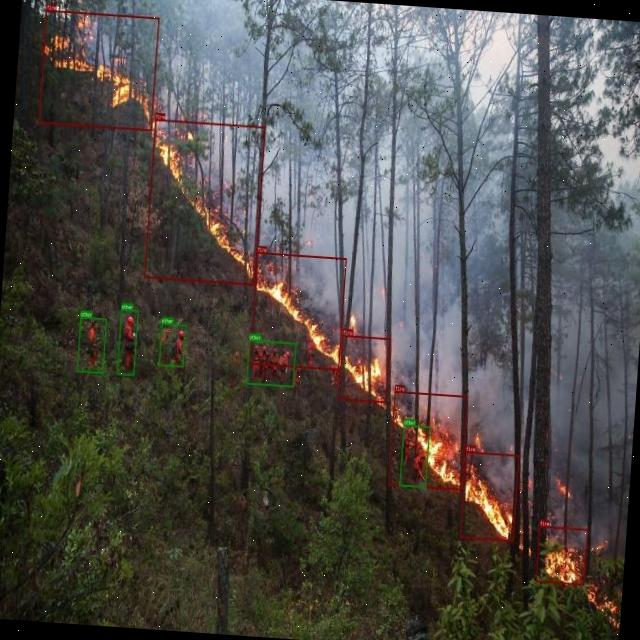fire: (144, 119, 266, 285), (38, 9, 159, 131), (248, 252, 346, 370), (388, 390, 467, 490), (459, 450, 519, 541), (338, 334, 390, 402), (535, 525, 588, 585)
